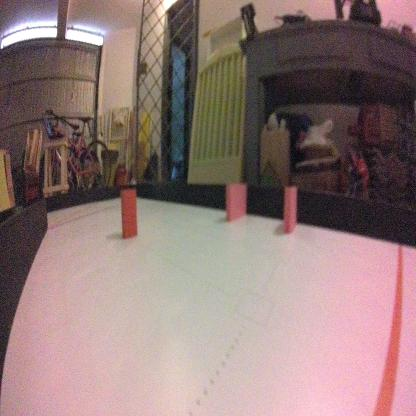magenta: (224, 182, 248, 221), (281, 183, 298, 233)
red: (119, 183, 138, 237)
